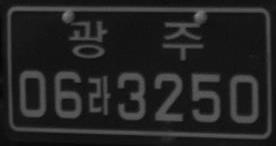0: (229, 73, 259, 124), (18, 69, 47, 118)
2: (153, 72, 183, 122)
3: (116, 71, 146, 121)
5: (190, 72, 221, 123)
6: (52, 69, 82, 119)
광주_D: (68, 20, 204, 61)
라: (87, 75, 111, 115)
